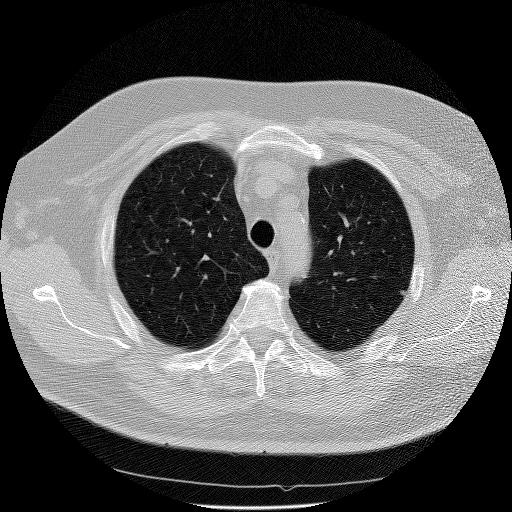nodule: (398, 288, 408, 298)
